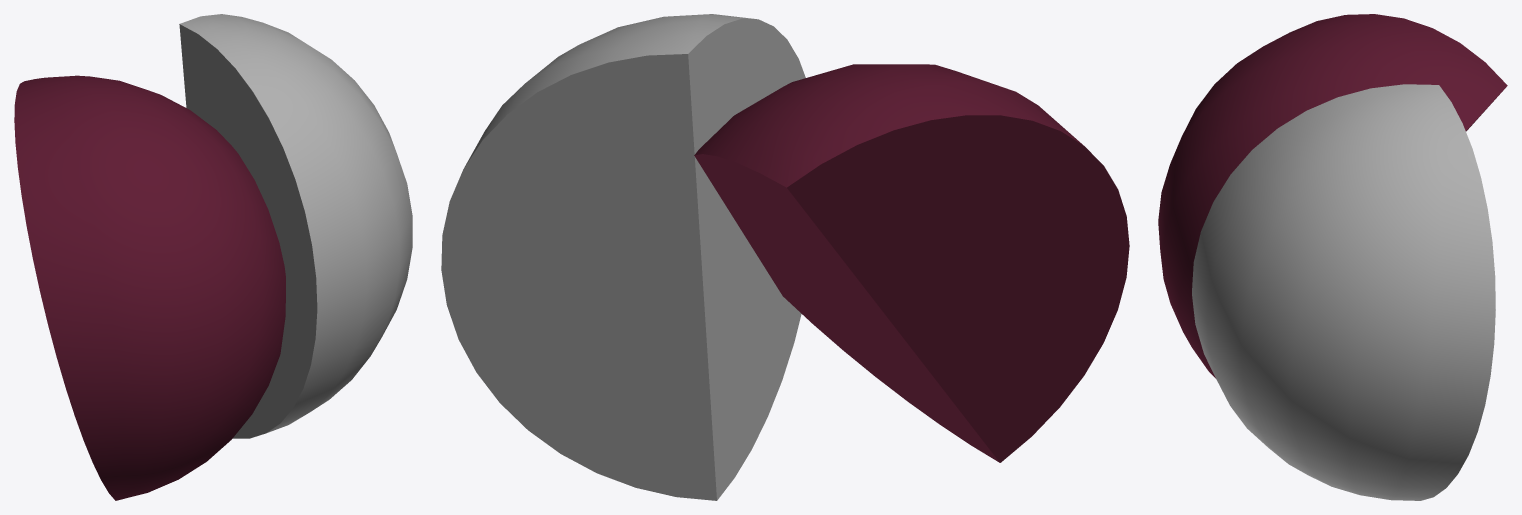
The model's file is 2 wedges .fbx.
The picture shows the model from 3 angles, left to right: view 1: azimuth 30°, elevation 25°; view 2: azimuth 150°, elevation 25°; view 3: azimuth 270°, elevation 25°; orthographic projection. The views are drawn at different scales.
Visible parts, largest first — view 1: pSphere1, pasted__pSphere1; view 2: pasted__pSphere1, pSphere1; view 3: pasted__pSphere1, pSphere1.
Part boxes in pixels (x1,y1,x2,y2): pSphere1: (14, 75, 285, 500); pasted__pSphere1: (179, 14, 412, 438); pasted__pSphere1: (441, 14, 805, 500); pSphere1: (694, 64, 1129, 462); pasted__pSphere1: (1192, 84, 1495, 500); pSphere1: (1158, 14, 1507, 378).
Size of the model in its own units: 3.4 by 2.91 by 2.34.
